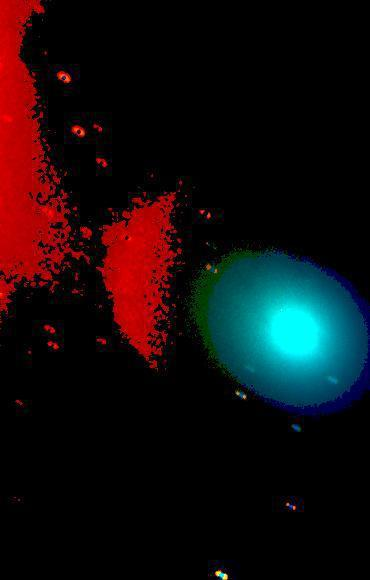star: (0, 106, 24, 136)
